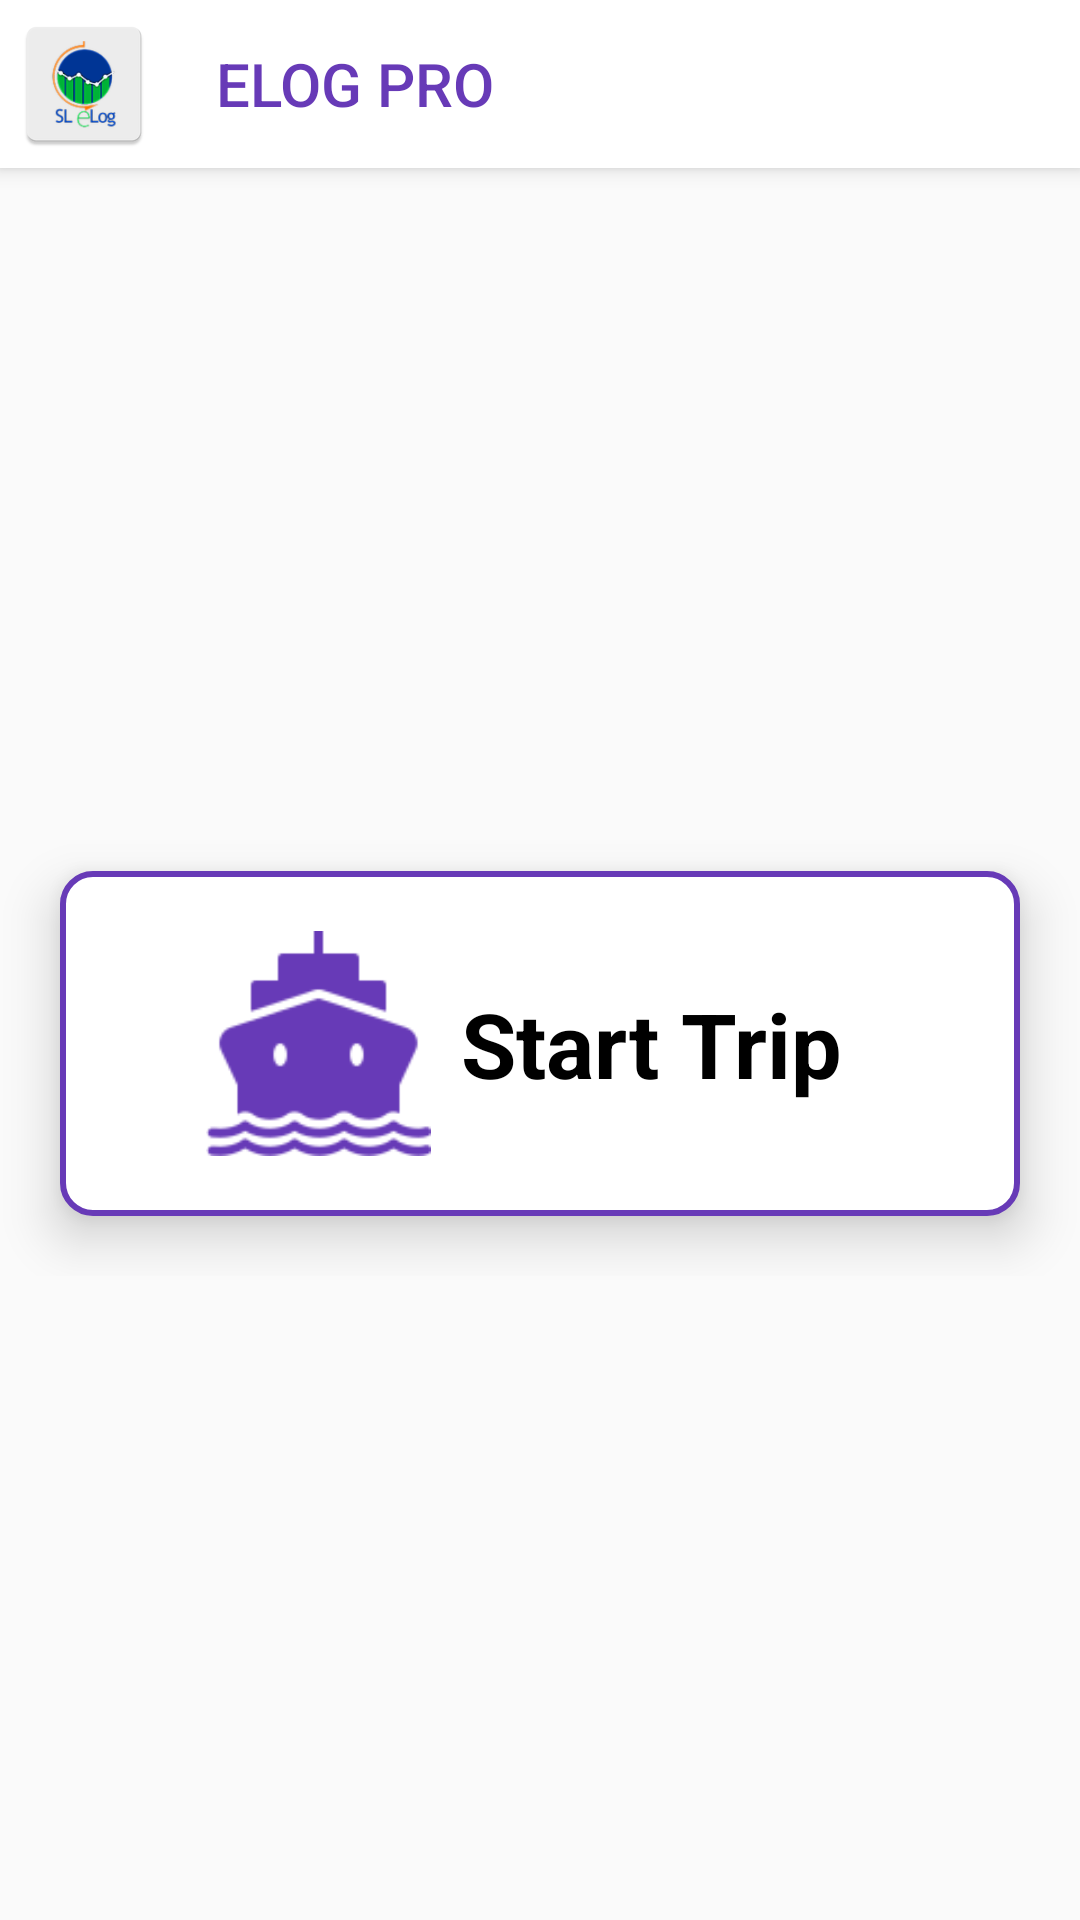

Where to tap for icons on this 1080w x 1920h app screen, as [x,y]:
ship: [318,1043]
